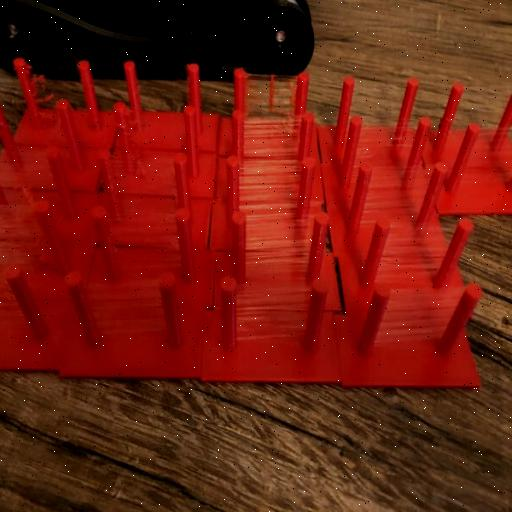stringing: (375, 289, 462, 347), (83, 280, 166, 339), (376, 225, 456, 284), (105, 152, 178, 214), (237, 287, 311, 346), (247, 217, 314, 279), (360, 170, 435, 225), (110, 214, 181, 272), (241, 162, 304, 214), (457, 128, 510, 189), (1, 150, 58, 203), (0, 211, 51, 266), (239, 113, 299, 158), (0, 279, 29, 334)
